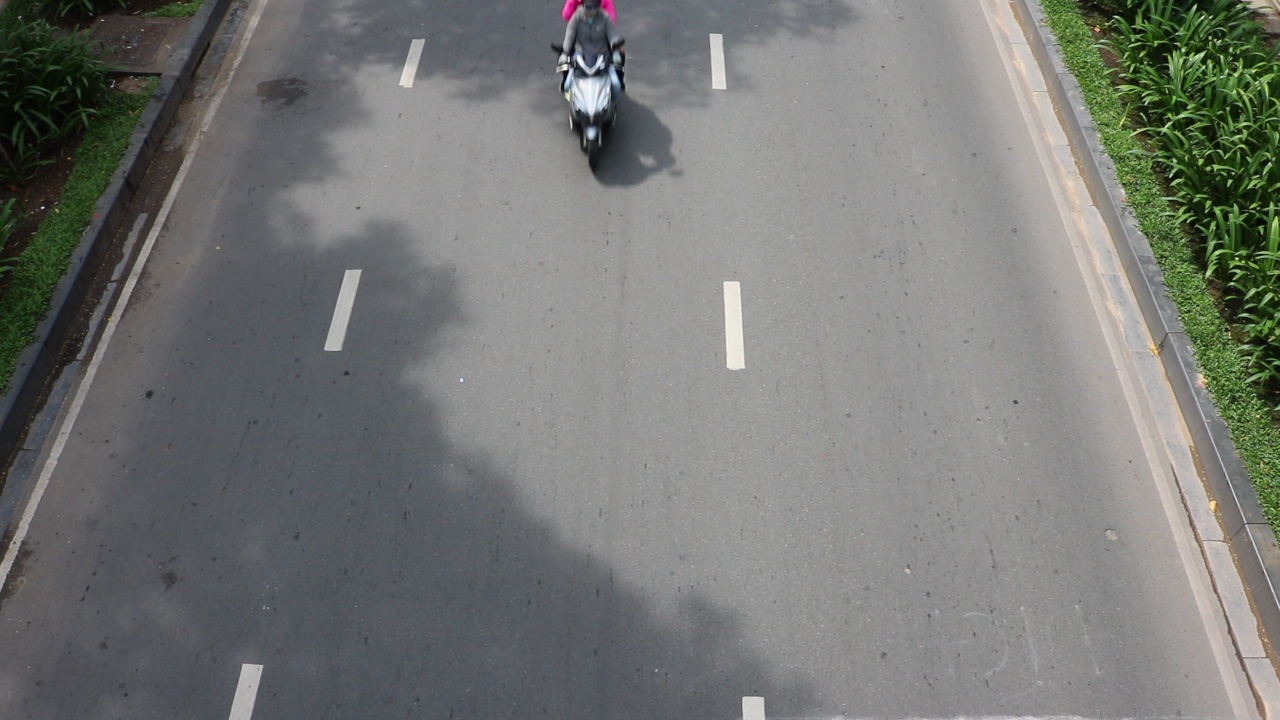motorcycle: (551, 41, 626, 171)
